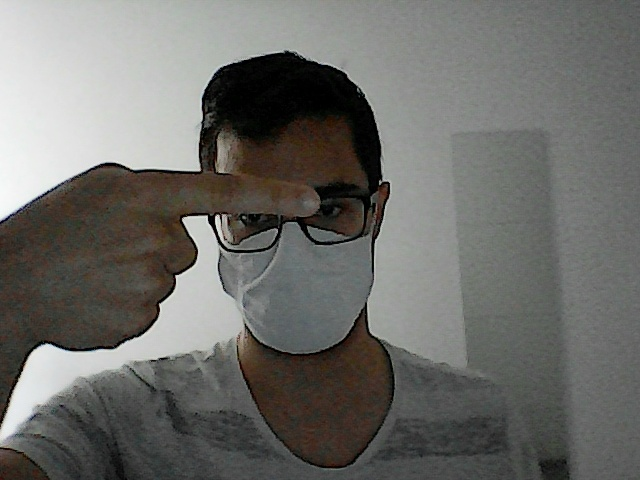left: (1, 153, 328, 364)
